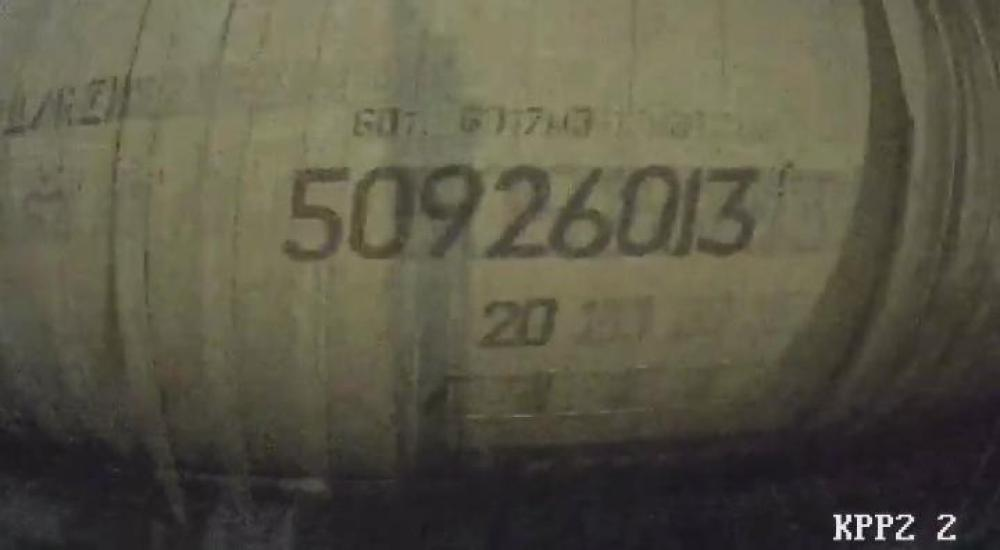Wagon-number: (279, 158, 766, 268)
